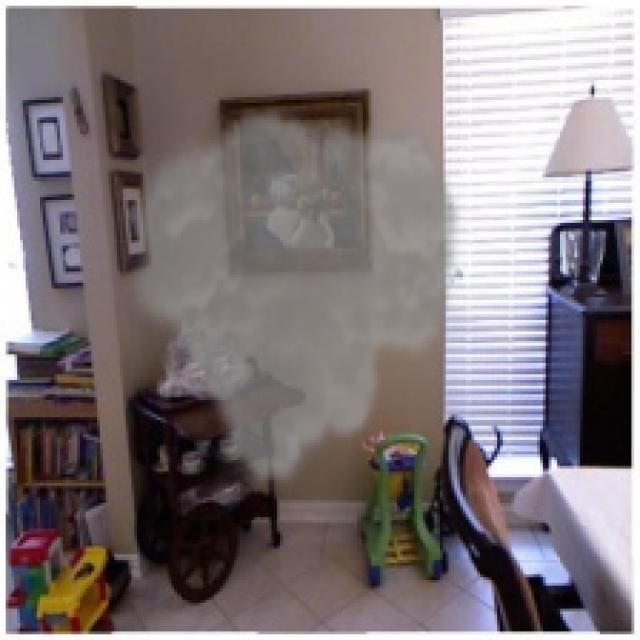Smoke: (120, 102, 466, 498)
